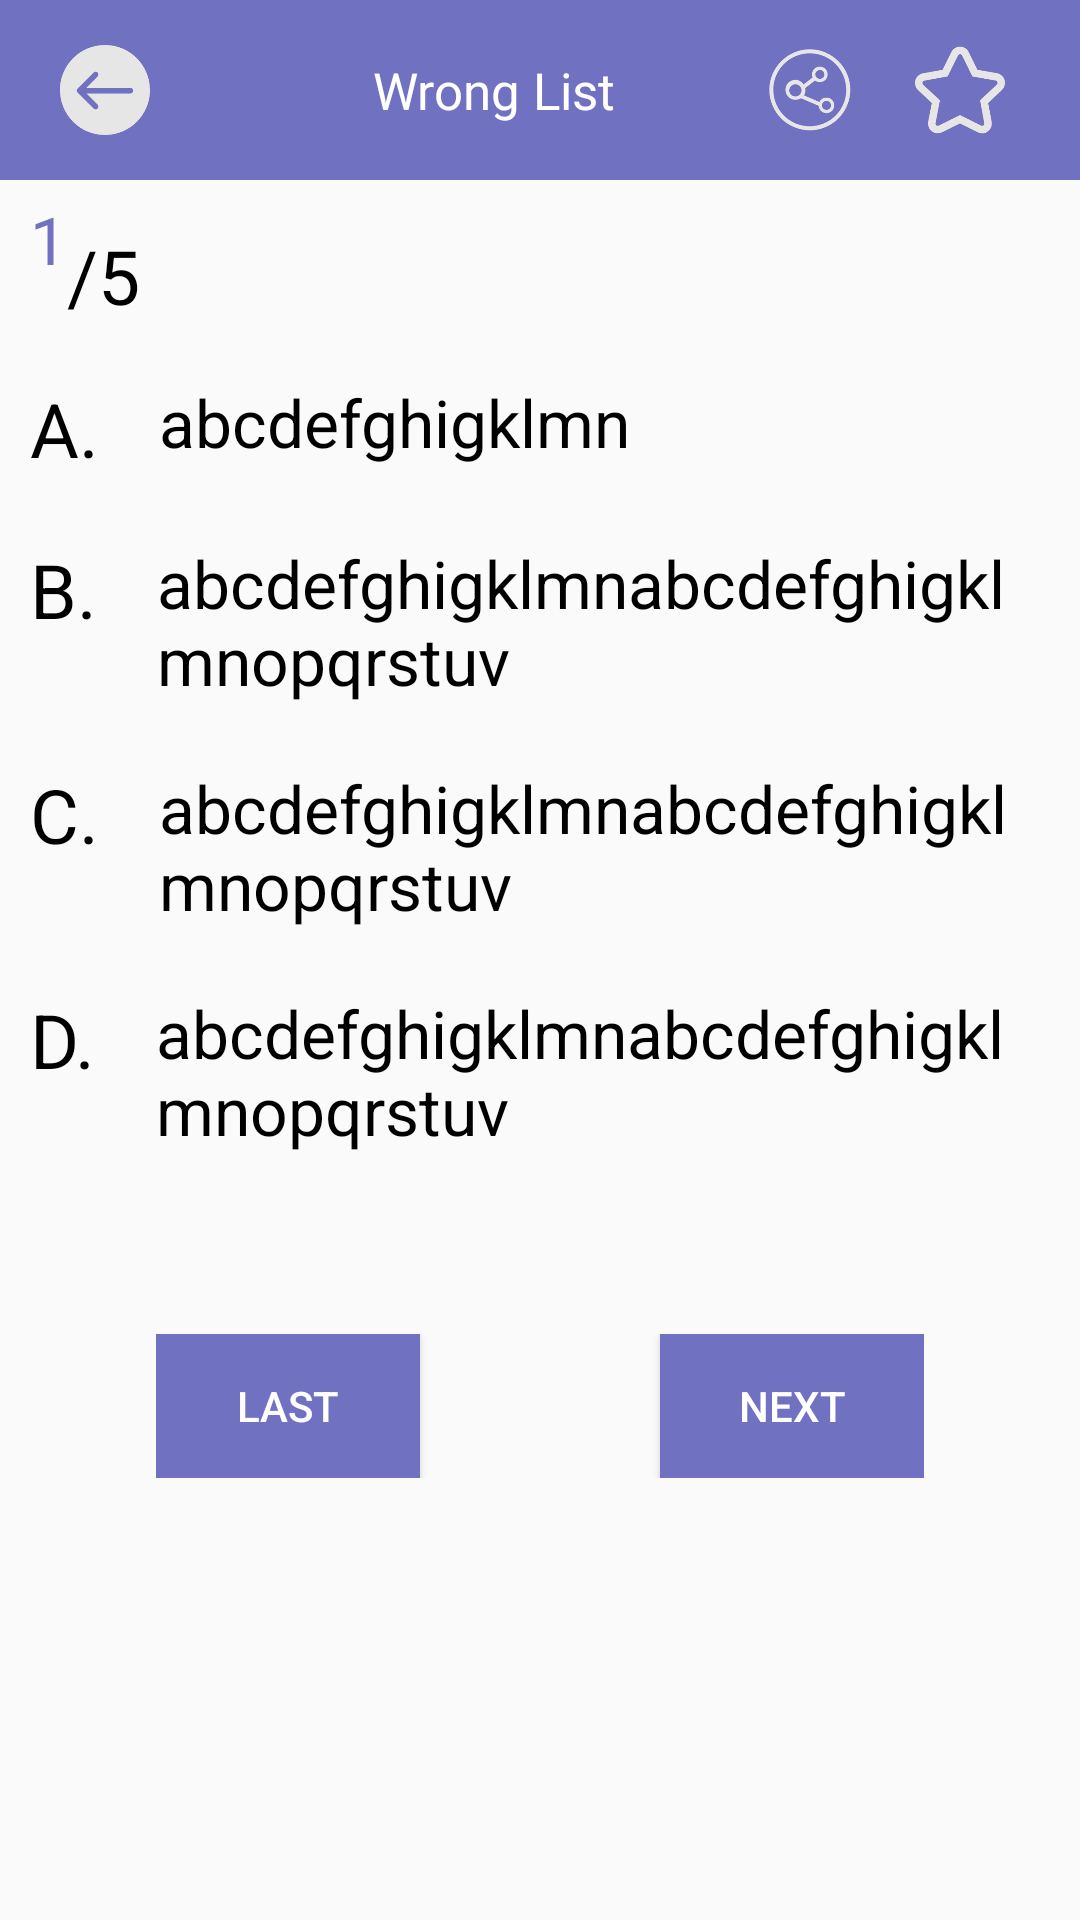

Where to tap for icons on this 1080*1920 app screen, as point (x, y):
noncollect: point (960, 90)
share: point (810, 90)
